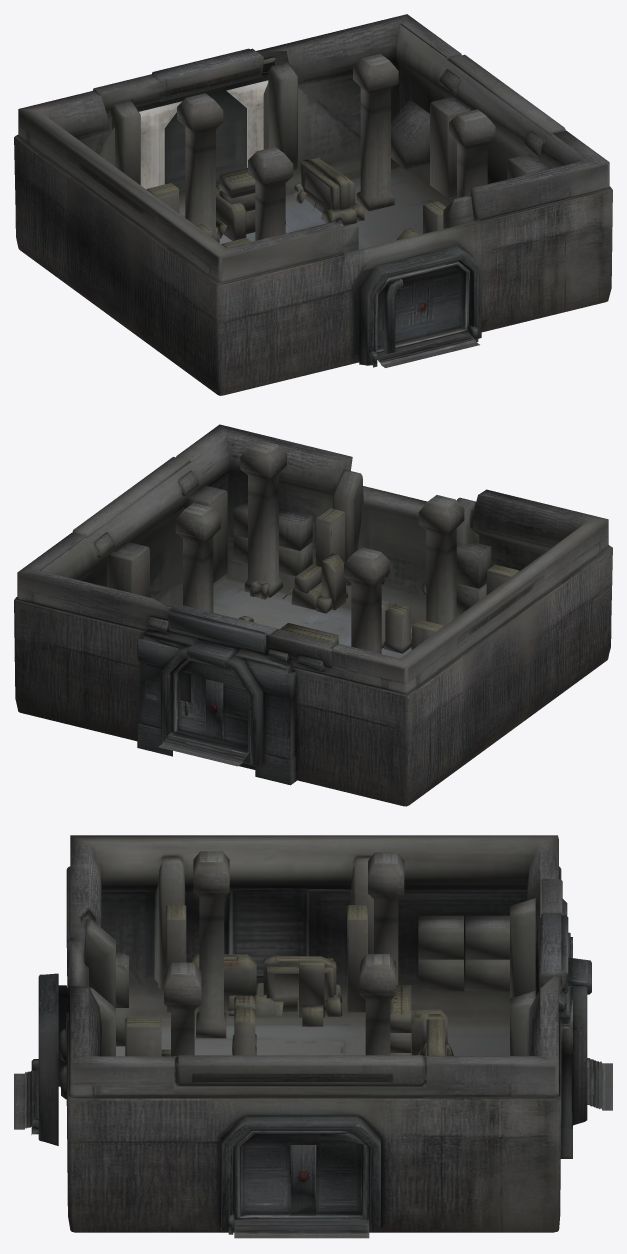
Rendered from cqc-bunker-cqb-v1.glb.
The picture shows the model from 3 angles, top to bottom: view 1: azimuth 30°, elevation 25°; view 2: azimuth 150°, elevation 25°; view 3: azimuth 270°, elevation 25°; orthographic projection. The views are drawn at different scales.
Parts seen in each view (by area): view 1: cqc-bunker-cqb-v1; view 2: cqc-bunker-cqb-v1; view 3: cqc-bunker-cqb-v1.
Part boxes in pixels (x1=…): cqc-bunker-cqb-v1: x1=14, y1=14, x2=612, y2=395; cqc-bunker-cqb-v1: x1=14, y1=424, x2=612, y2=806; cqc-bunker-cqb-v1: x1=14, y1=835, x2=612, y2=1238.
Size of the model in its own units: 168 by 68.2 by 170.
Materials: 1 (1 with a texture image).
